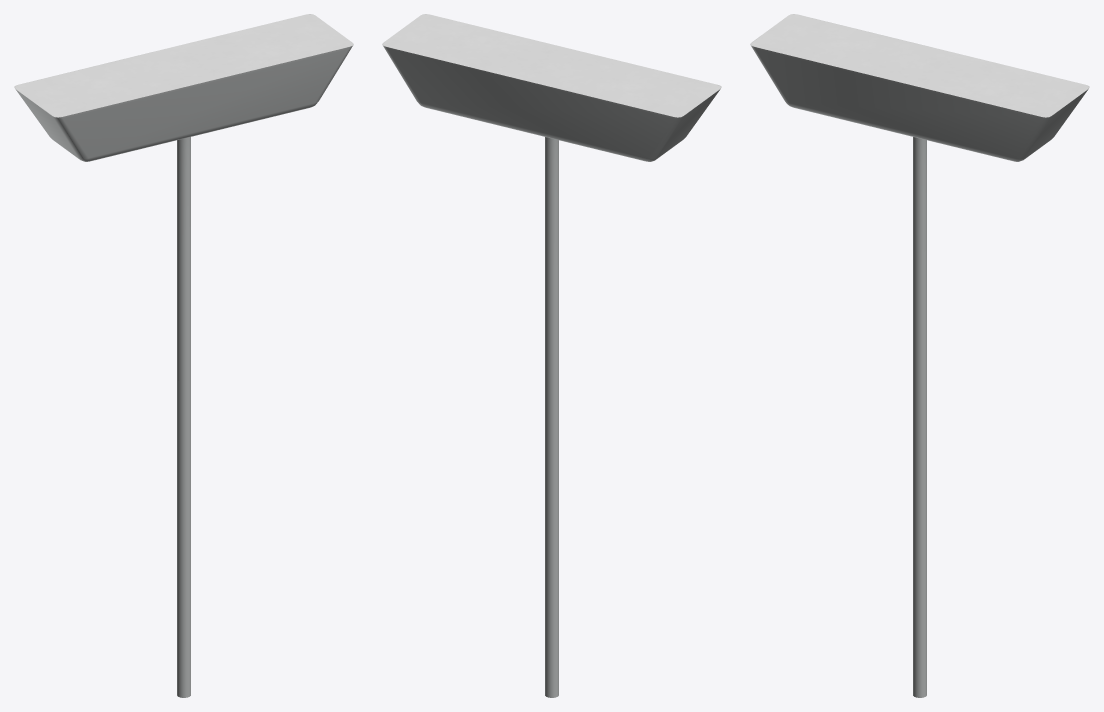
The model's file is BarSign03_2.FBX.
The picture shows the model from 3 angles, left to right: view 1: azimuth 30°, elevation 25°; view 2: azimuth 150°, elevation 25°; view 3: azimuth 330°, elevation 25°; orthographic projection.
Visible parts, largest first — view 1: BarSign03_2; view 2: BarSign03_2; view 3: BarSign03_2.
Part boxes in pixels (left/top/right/bottom): BarSign03_2: left=14, top=14, right=353, bottom=697; BarSign03_2: left=382, top=14, right=721, bottom=697; BarSign03_2: left=750, top=14, right=1089, bottom=697.
Size of what is drawn, in the model's own units: 0.3627 by 0.726 by 0.0921.
